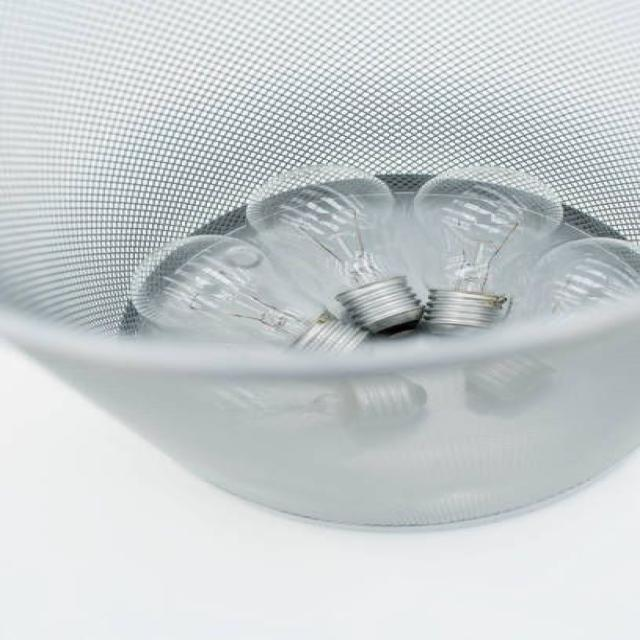electronic: (124, 162, 638, 433)
